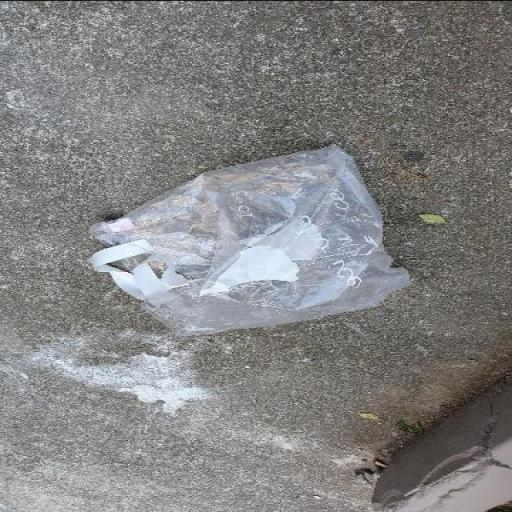plastic-bag: (81, 140, 409, 336)
